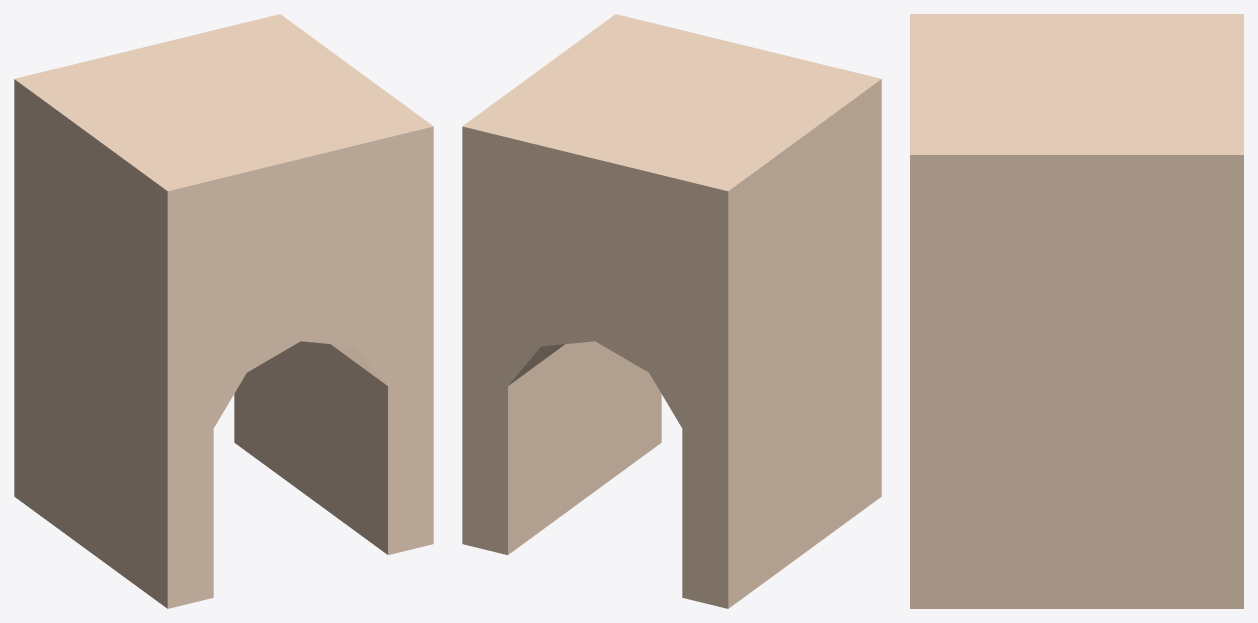
File: Abstract_Castle_Block_1.5_Unit_Beige_Arch_01.fbx
The picture shows the model from 3 angles, left to right: view 1: azimuth 30°, elevation 25°; view 2: azimuth 150°, elevation 25°; view 3: azimuth 270°, elevation 25°; orthographic projection. The views are drawn at different scales.
Visible parts, largest first — view 1: Model; view 2: Model; view 3: Model.
Part boxes in pixels (x1,y1,x2,y2): Model: [14, 14, 433, 608]; Model: [462, 14, 881, 608]; Model: [910, 14, 1243, 608].
Bounding box in the file's own units: 1000 × 1500 × 1000.
